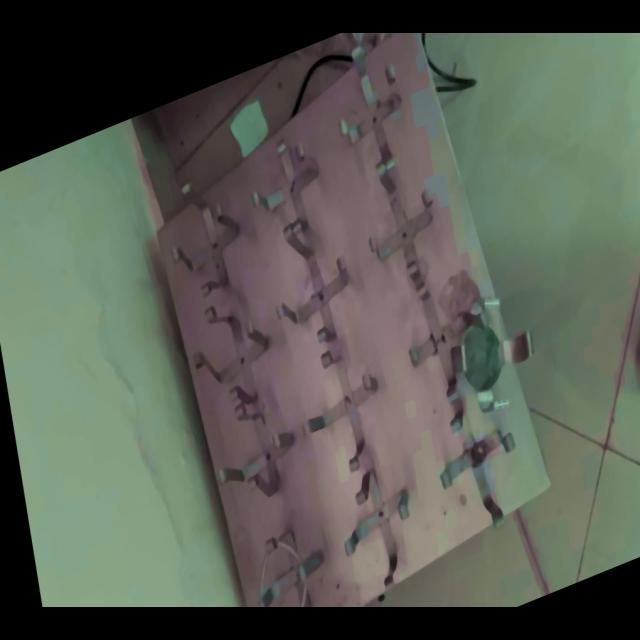Rotary Shaker: (143, 33, 552, 607)
